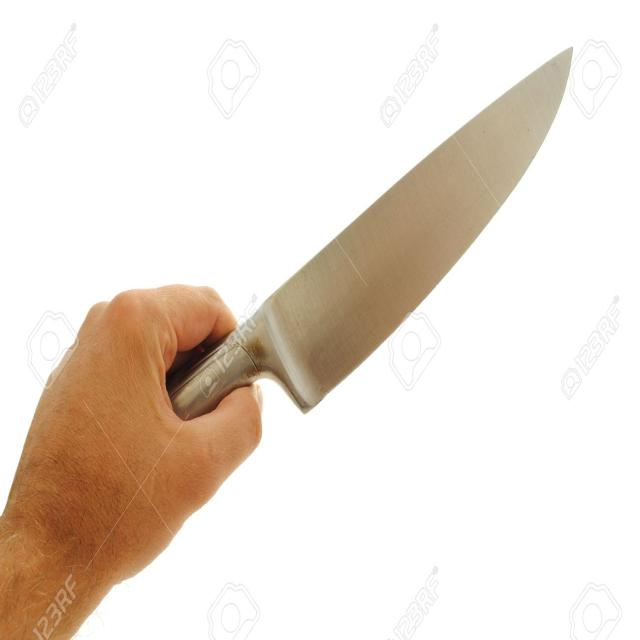knife: (172, 42, 577, 437)
